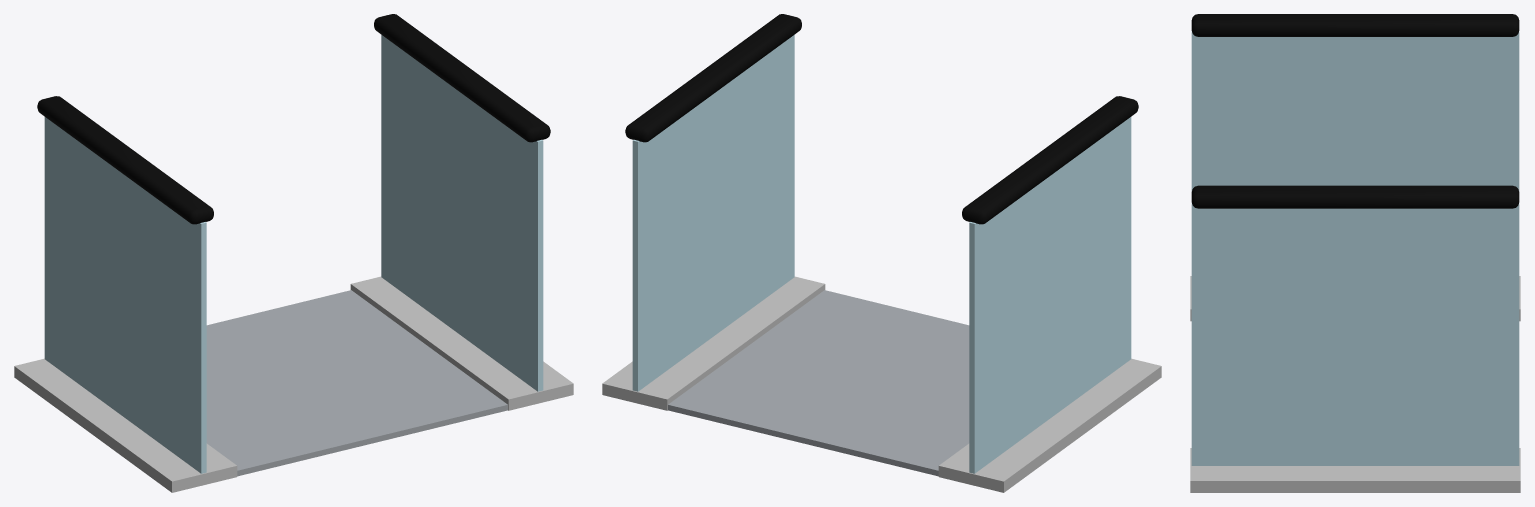
The model's file is airport.move.travelator.glb.
3 views of the same model, side by side, from view 1: azimuth 30°, elevation 25°; view 2: azimuth 150°, elevation 25°; view 3: azimuth 270°, elevation 25° (orthographic). The views are drawn at different scales.
Visible parts, largest first — view 1: main__glass, main__steel_galvanised, main__steel_stainless, main__rubber; view 2: main__glass, main__steel_galvanised, main__steel_stainless, main__rubber; view 3: main__glass, main__rubber, main__steel_stainless.
Boxes of the visible parts, x1=… form: main__glass: x1=44, y1=35, x2=543, y2=473; main__steel_galvanised: x1=206, y1=290, x2=507, y2=476; main__steel_stainless: x1=14, y1=276, x2=573, y2=492; main__rubber: x1=37, y1=14, x2=550, y2=224; main__glass: x1=632, y1=35, x2=1131, y2=473; main__steel_galvanised: x1=668, y1=290, x2=969, y2=476; main__steel_stainless: x1=602, y1=276, x2=1161, y2=492; main__rubber: x1=625, y1=14, x2=1138, y2=224; main__glass: x1=1191, y1=31, x2=1519, y2=465; main__rubber: x1=1191, y1=14, x2=1519, y2=208; main__steel_stainless: x1=1190, y1=276, x2=1520, y2=492.
Bounding box in the file's own units: 1.48 × 0.965 × 1.01.
